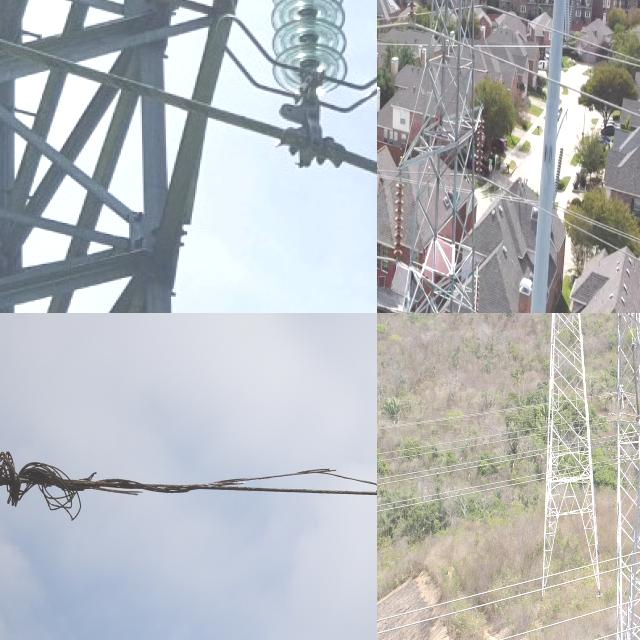杆塔: (0, 0, 290, 313), (380, 0, 483, 313), (538, 313, 600, 599), (608, 313, 640, 640)
正常电缆: (489, 178, 640, 265), (495, 49, 640, 124), (492, 0, 640, 72)
正常绝缘子: (260, 0, 370, 153), (392, 173, 408, 267), (628, 337, 640, 424), (474, 105, 486, 184), (402, 0, 419, 27)
电缆破损: (0, 421, 377, 546)
